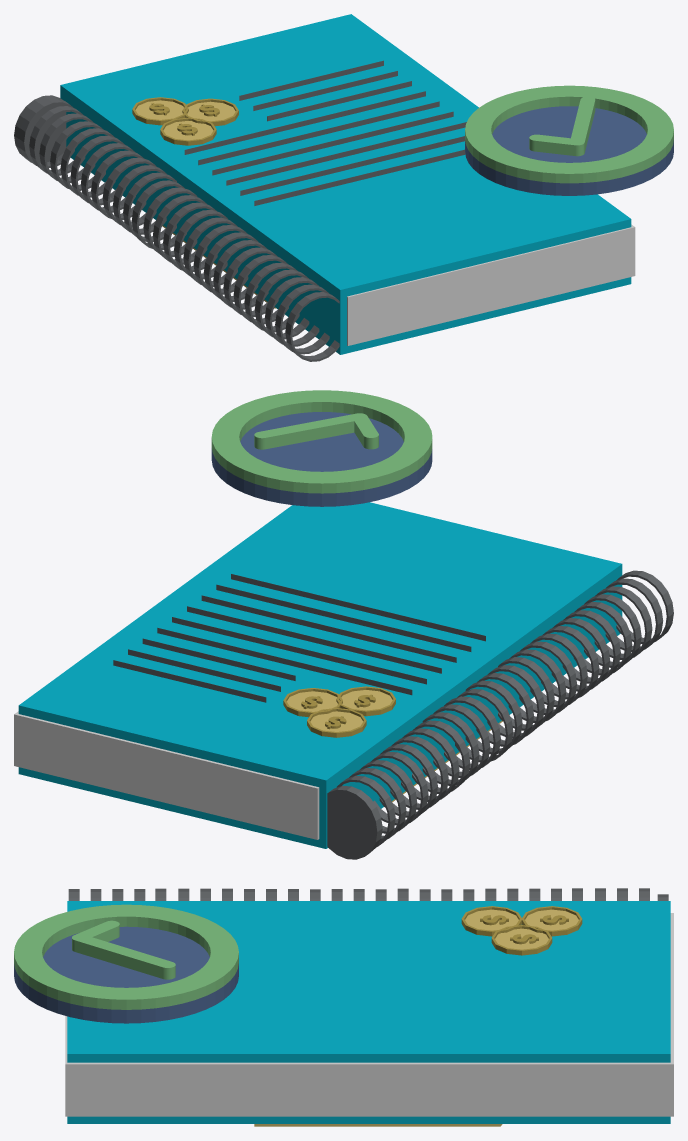
File: model_escrita.glb
The picture shows the model from 3 angles, top to bottom: view 1: azimuth 30°, elevation 25°; view 2: azimuth 150°, elevation 25°; view 3: azimuth 270°, elevation 25°; orthographic projection. The views are drawn at different scales.
Parts seen in each view (by area): view 1: Mesh_Mesh_head_geo.001_lambert2SG.001; view 2: Mesh_Mesh_head_geo.001_lambert2SG.001; view 3: Mesh_Mesh_head_geo.001_lambert2SG.001.
Part boxes in pixels (x1,y1,x2,y2): Mesh_Mesh_head_geo.001_lambert2SG.001: (14,14,673,361); Mesh_Mesh_head_geo.001_lambert2SG.001: (14,390,673,859); Mesh_Mesh_head_geo.001_lambert2SG.001: (14,888,673,1126).
Size of the model in its own units: 0.033 by 0.0136 by 0.044.
